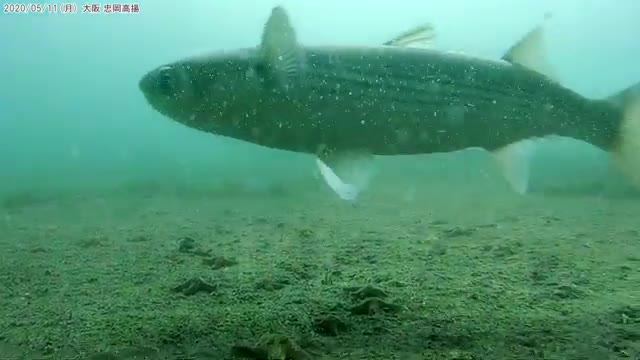smallfish: (129, 13, 640, 193)
